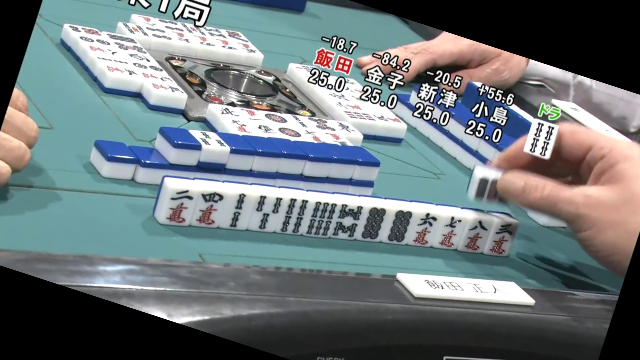Tehai: (156, 175, 519, 257)
